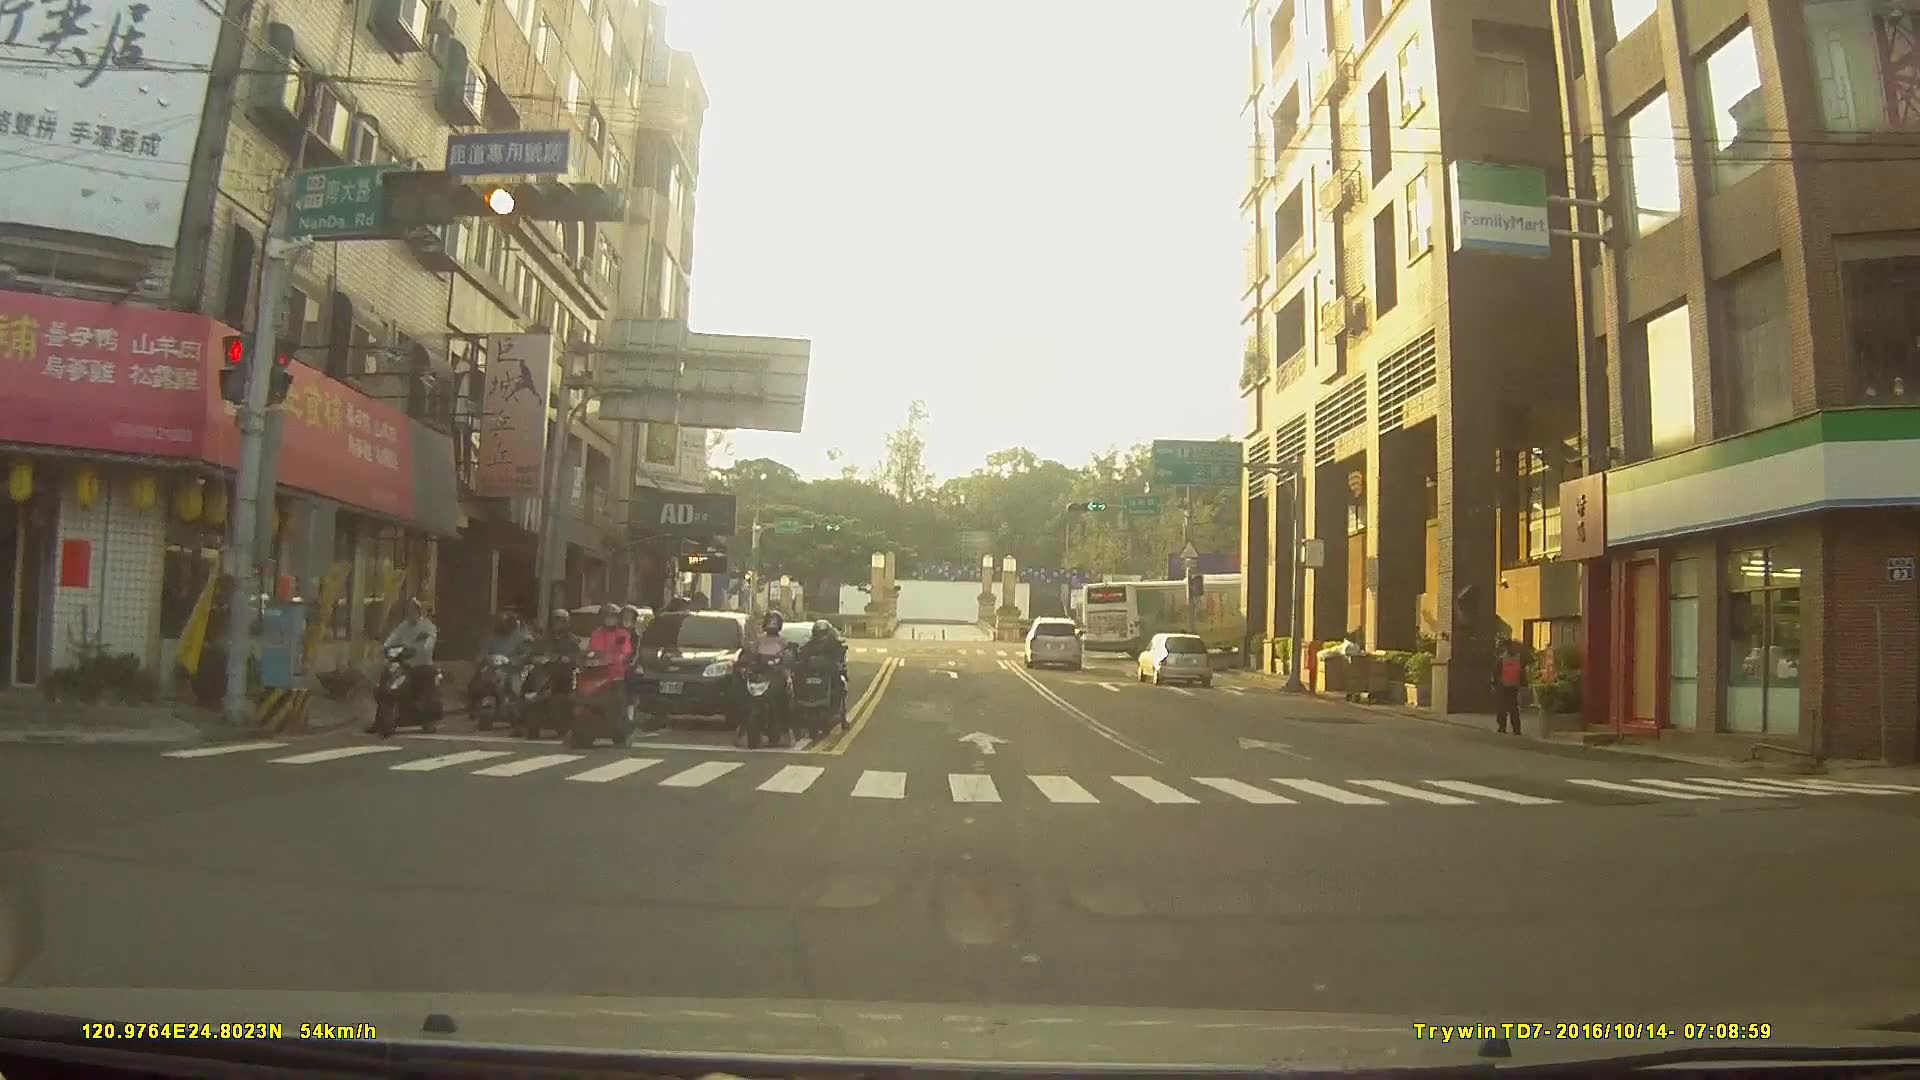pedestrian: (1487, 638, 1535, 741)
rider: (562, 597, 647, 749), (374, 595, 447, 734), (516, 599, 588, 735), (740, 610, 805, 745), (473, 604, 533, 726), (788, 619, 847, 740)
vehicle: (1081, 571, 1280, 659), (622, 606, 761, 725), (1136, 626, 1215, 681), (1022, 614, 1083, 667)
